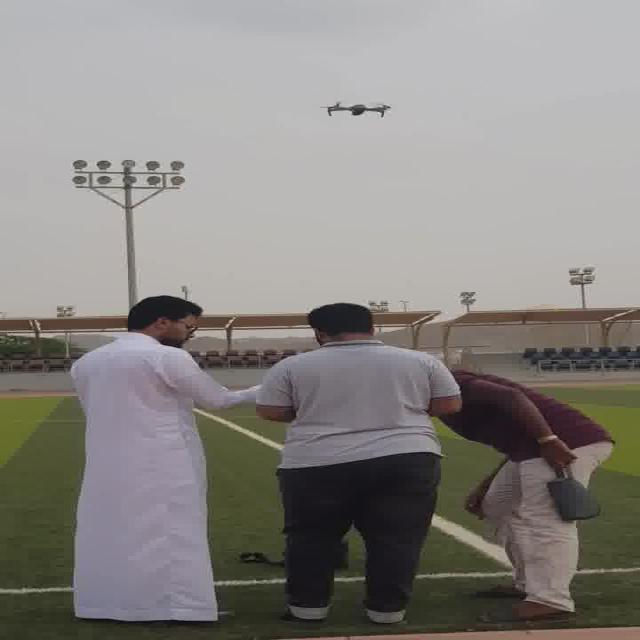drone: (311, 97, 406, 127)
